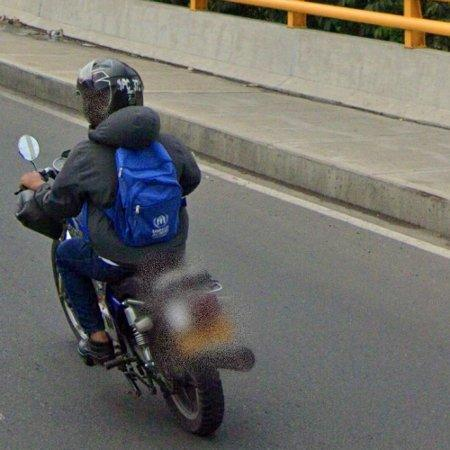motorcycles: (95, 270, 255, 437), (51, 219, 85, 339)
